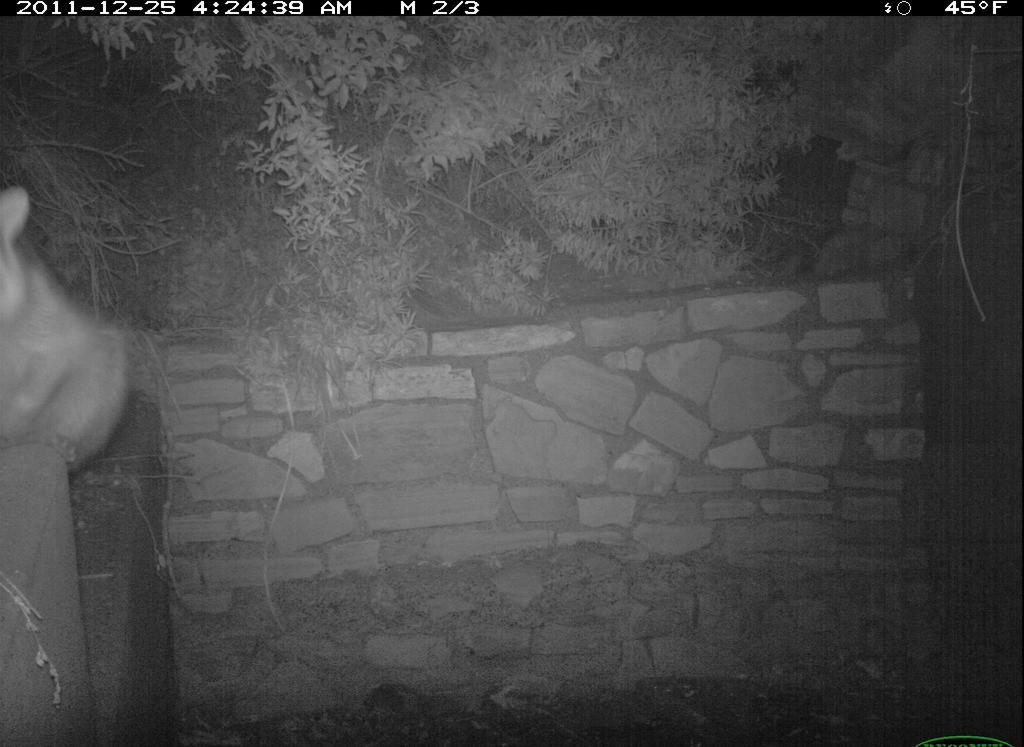raccoon: (2, 185, 152, 478)
